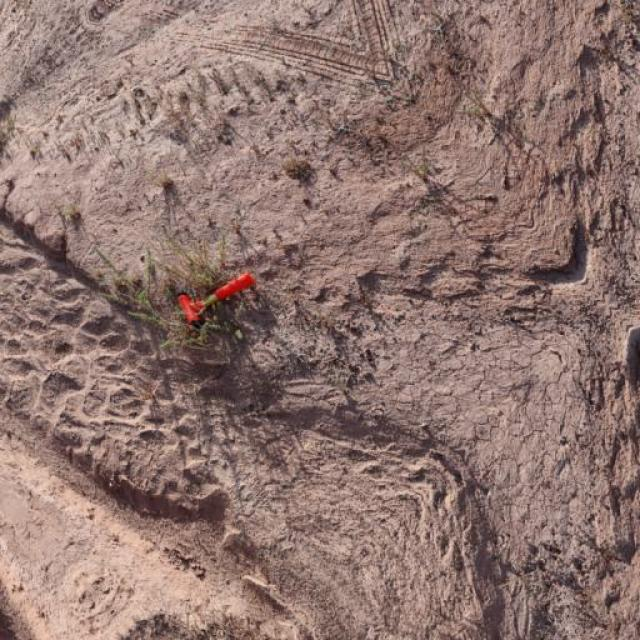mallet: (175, 270, 256, 326)
